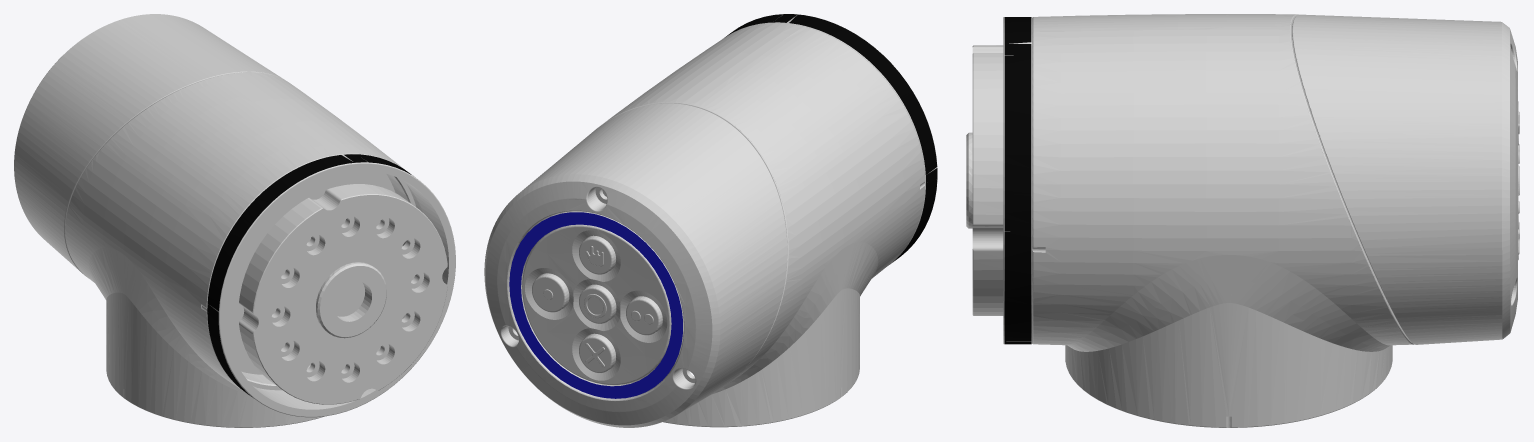
The model's file is symphony5_5_w.dae.
The picture shows the model from 3 angles, left to right: view 1: azimuth 30°, elevation 25°; view 2: azimuth 150°, elevation 25°; view 3: azimuth 270°, elevation 25°; orthographic projection. The views are drawn at different scales.
Parts seen in each view (by area): view 1: link5; view 2: link5; view 3: link5.
Part boxes in pixels (x1,y1,x2,y2): link5: (14, 14, 455, 427); link5: (484, 14, 937, 427); link5: (966, 14, 1519, 427).
Bounding box in the file's own units: 0.0763 × 0.1266 × 0.0832.
